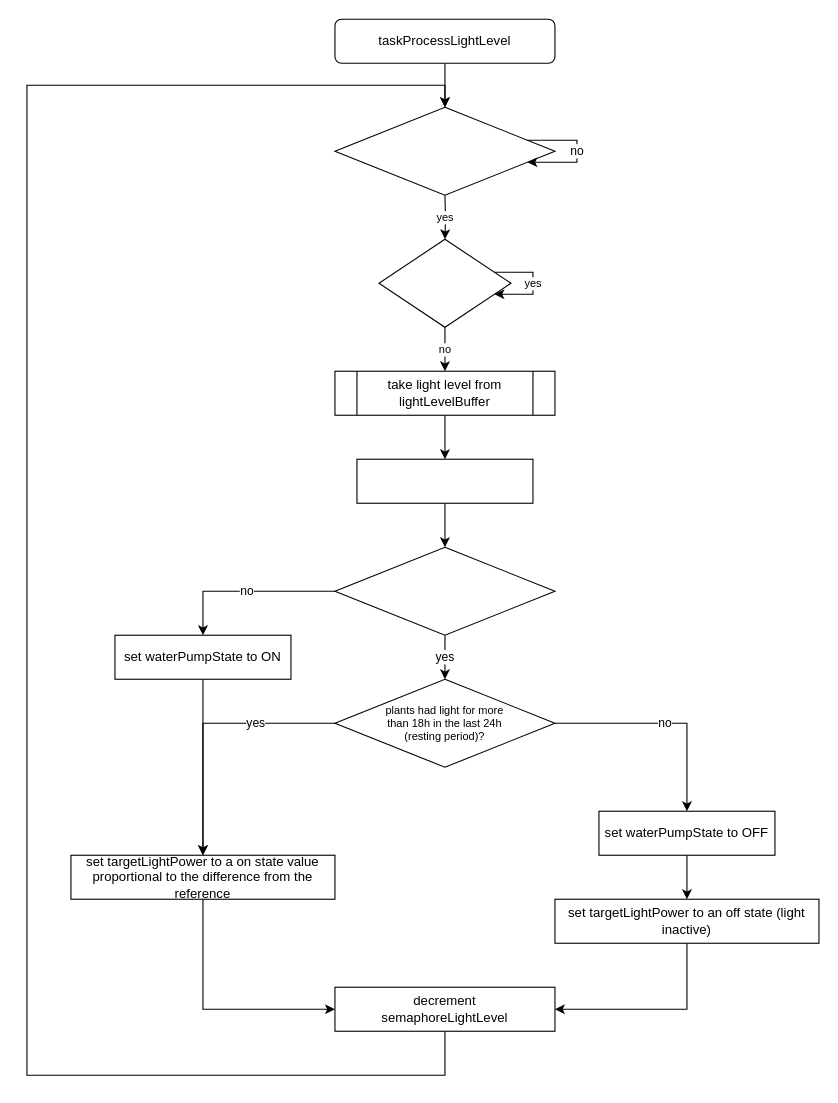
The diagram is 838 pixels wide and 1103 high, and some of its shapes have lost their labels. The shapes that lost their labels are listed below. From the top down, each one's centre as x and y in pixels, then its label:
At (444,150): "notificationLightLevelAcquired pending?".
At (444,282): "semaphoreLightLevel locked?".
At (444,480): "convert light level to lúmens".
At (444,590): "light level < ref light level?".
